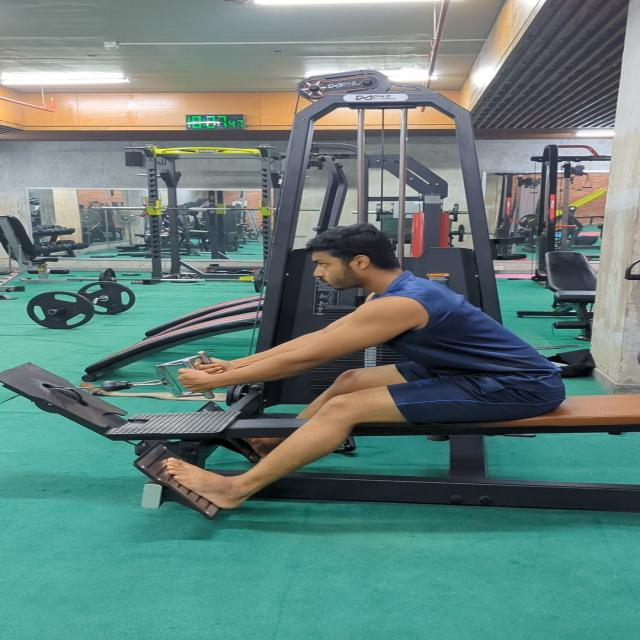Normal_RowingMachineExercise: (157, 221, 570, 511)
